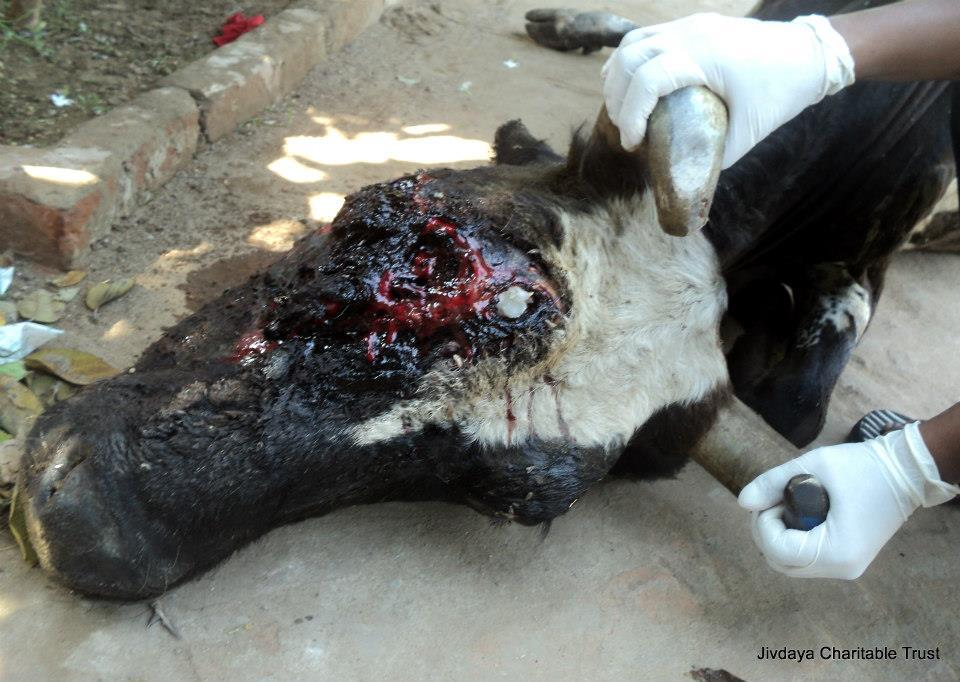bleeding: (289, 180, 590, 426)
